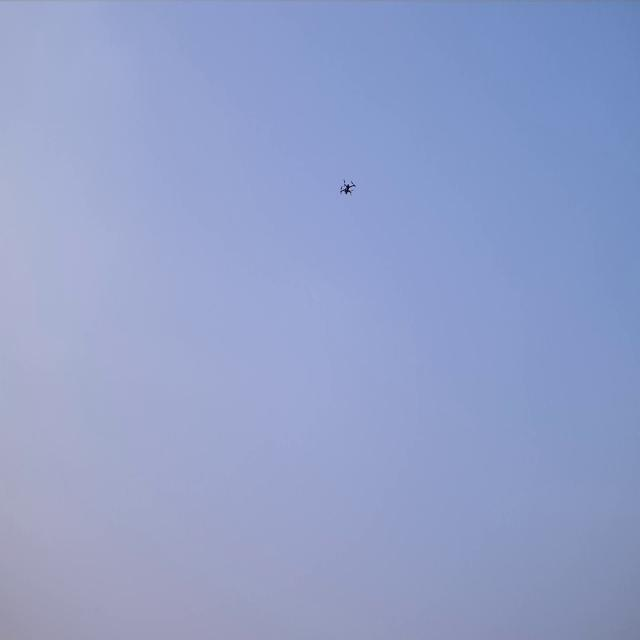UAV: (339, 177, 356, 197)
